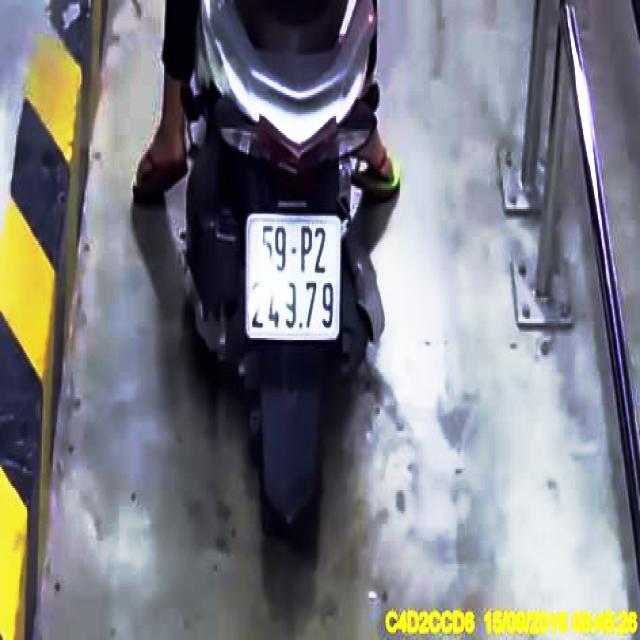license_plate: (247, 216, 343, 341)
